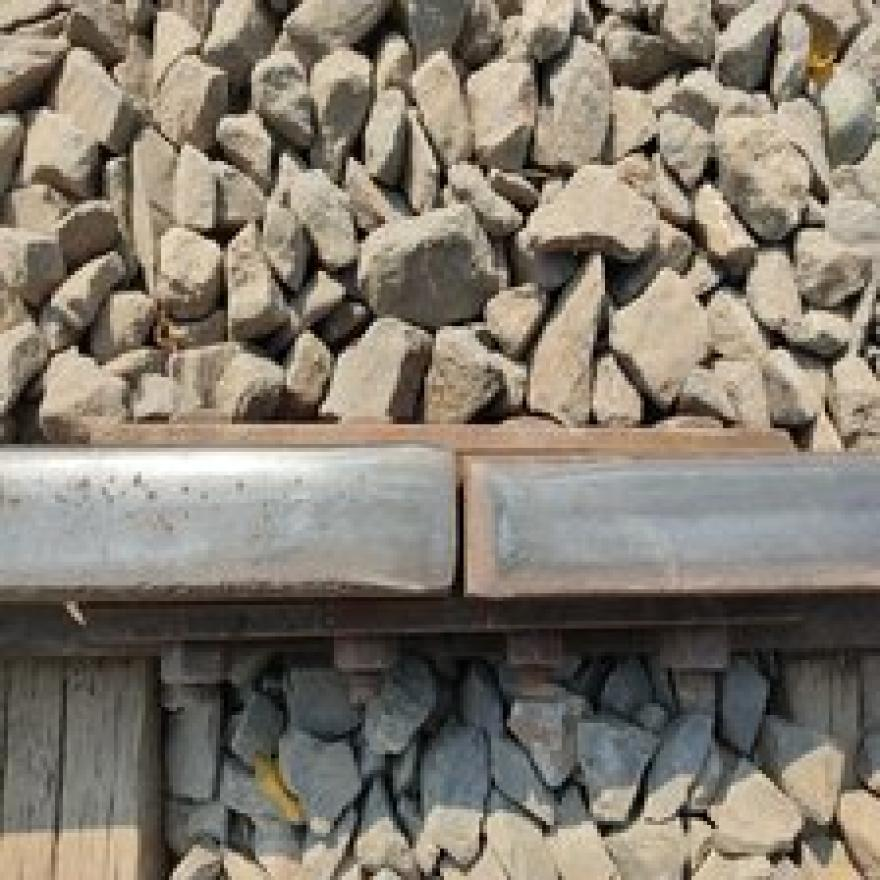railway-gap: (352, 416, 565, 625)
